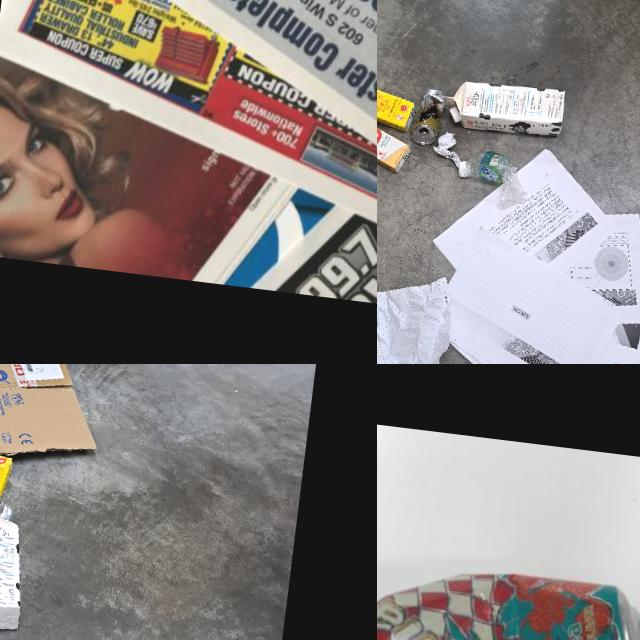aba de lata: (418, 131, 428, 142)
caixinha: (442, 75, 566, 139), (0, 516, 31, 632), (377, 79, 418, 132), (377, 114, 413, 174), (0, 452, 11, 503)
garrafa plástica: (455, 147, 532, 210)
lata: (377, 546, 640, 640), (411, 86, 446, 146), (0, 496, 14, 531)
papel: (0, 0, 377, 330), (411, 136, 640, 364), (431, 129, 464, 166)
papelão: (0, 364, 111, 491)
tampa plástica: (448, 105, 464, 124), (457, 160, 472, 178)
